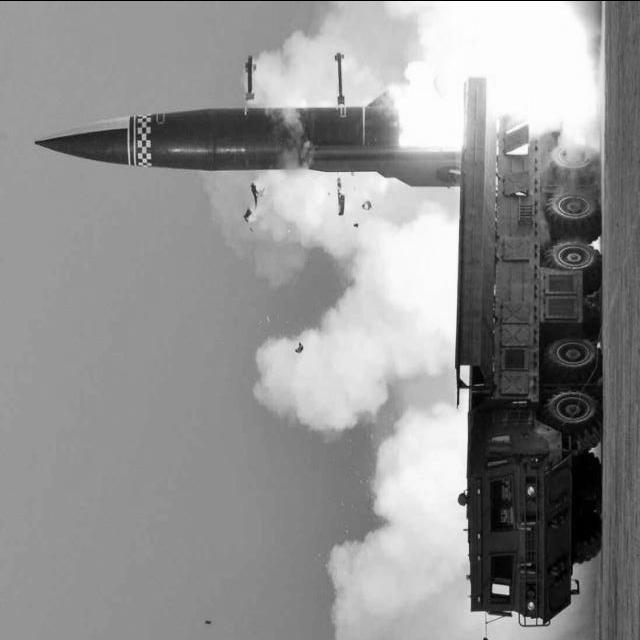Missile: (29, 84, 419, 187)
